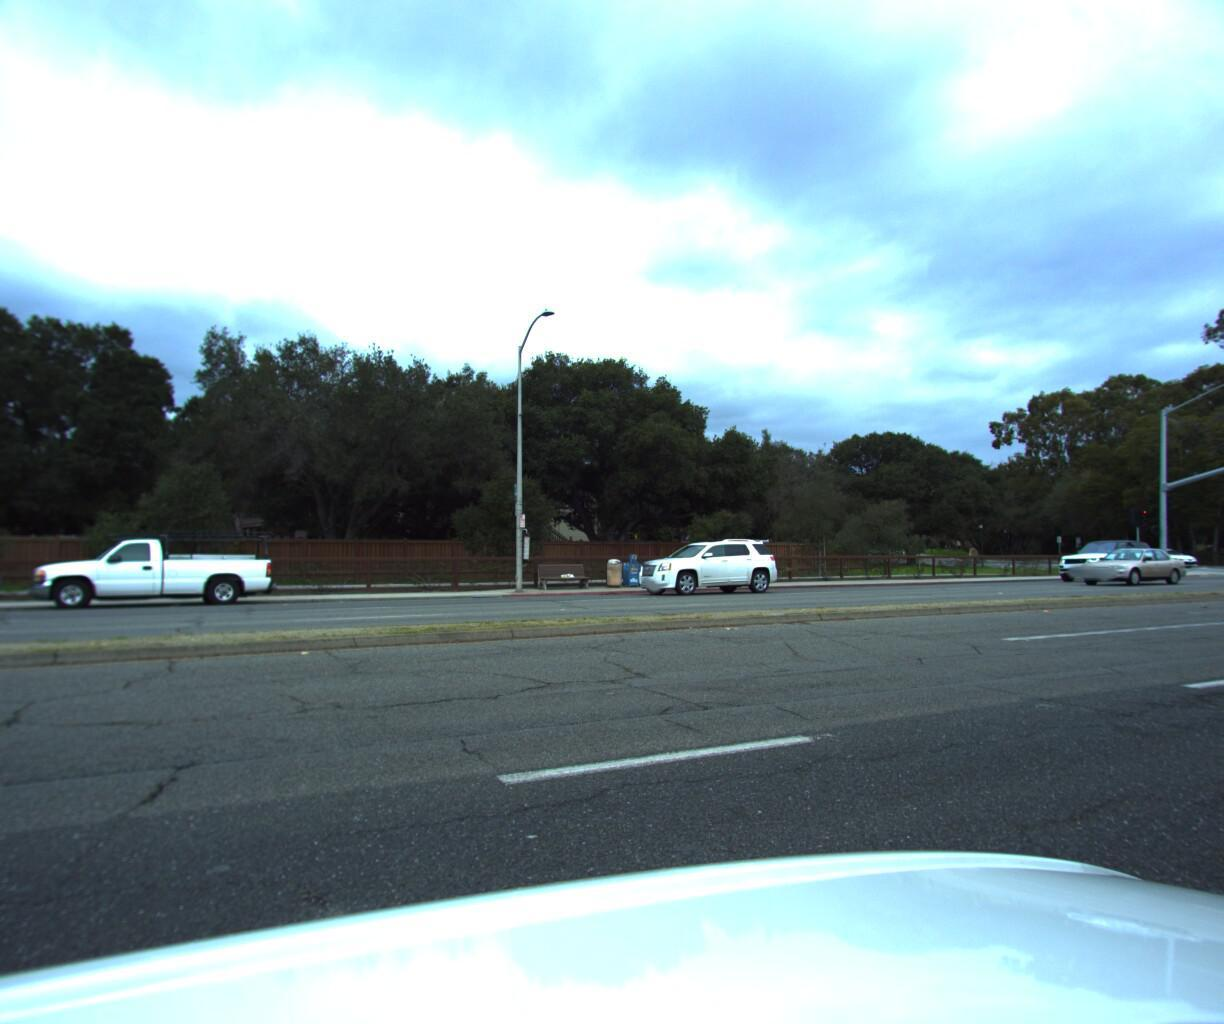car: (25, 527, 281, 612), (621, 530, 783, 594), (1068, 542, 1187, 584), (1041, 532, 1152, 576), (1120, 541, 1196, 561), (1221, 542, 1224, 584)
